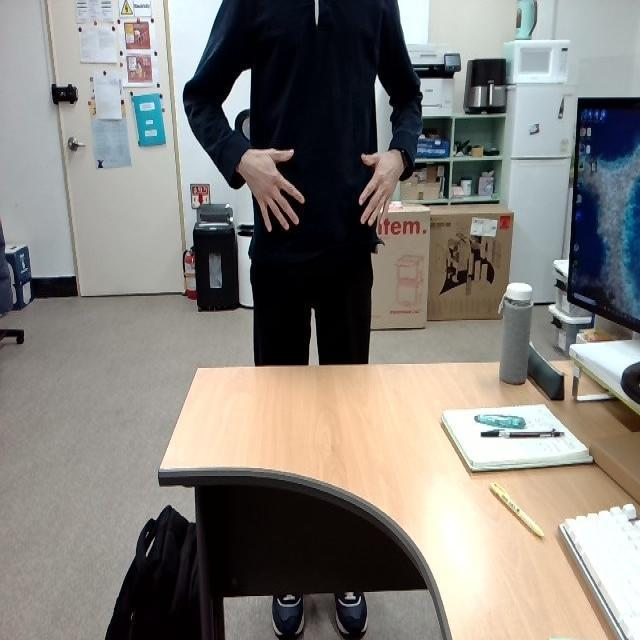bare_hand: (231, 140, 307, 235), (354, 137, 406, 234)
